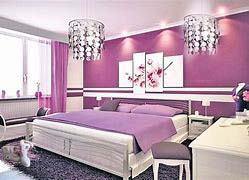copymove: (67, 1, 106, 63)
removal: (195, 55, 222, 86)
spliced: (1, 138, 40, 168)
